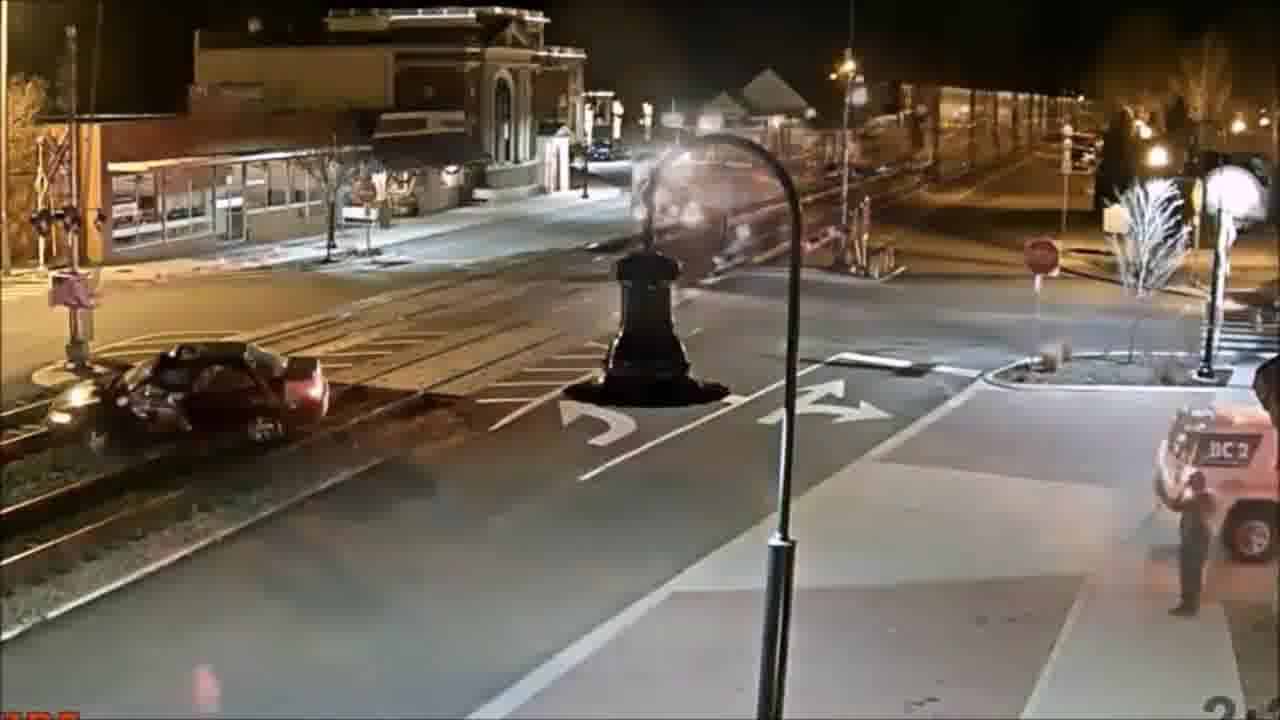crossing railway track: (41, 327, 325, 472)
